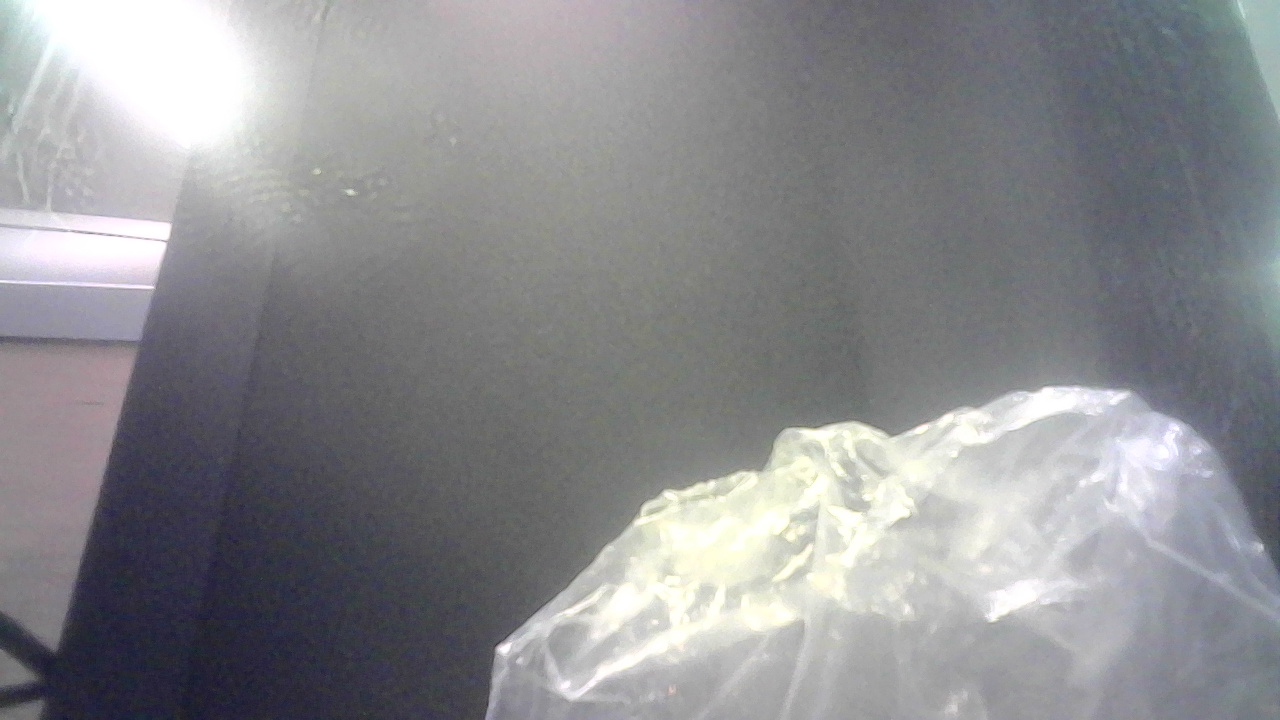Plastic_Recycling: (477, 387, 1280, 720)
